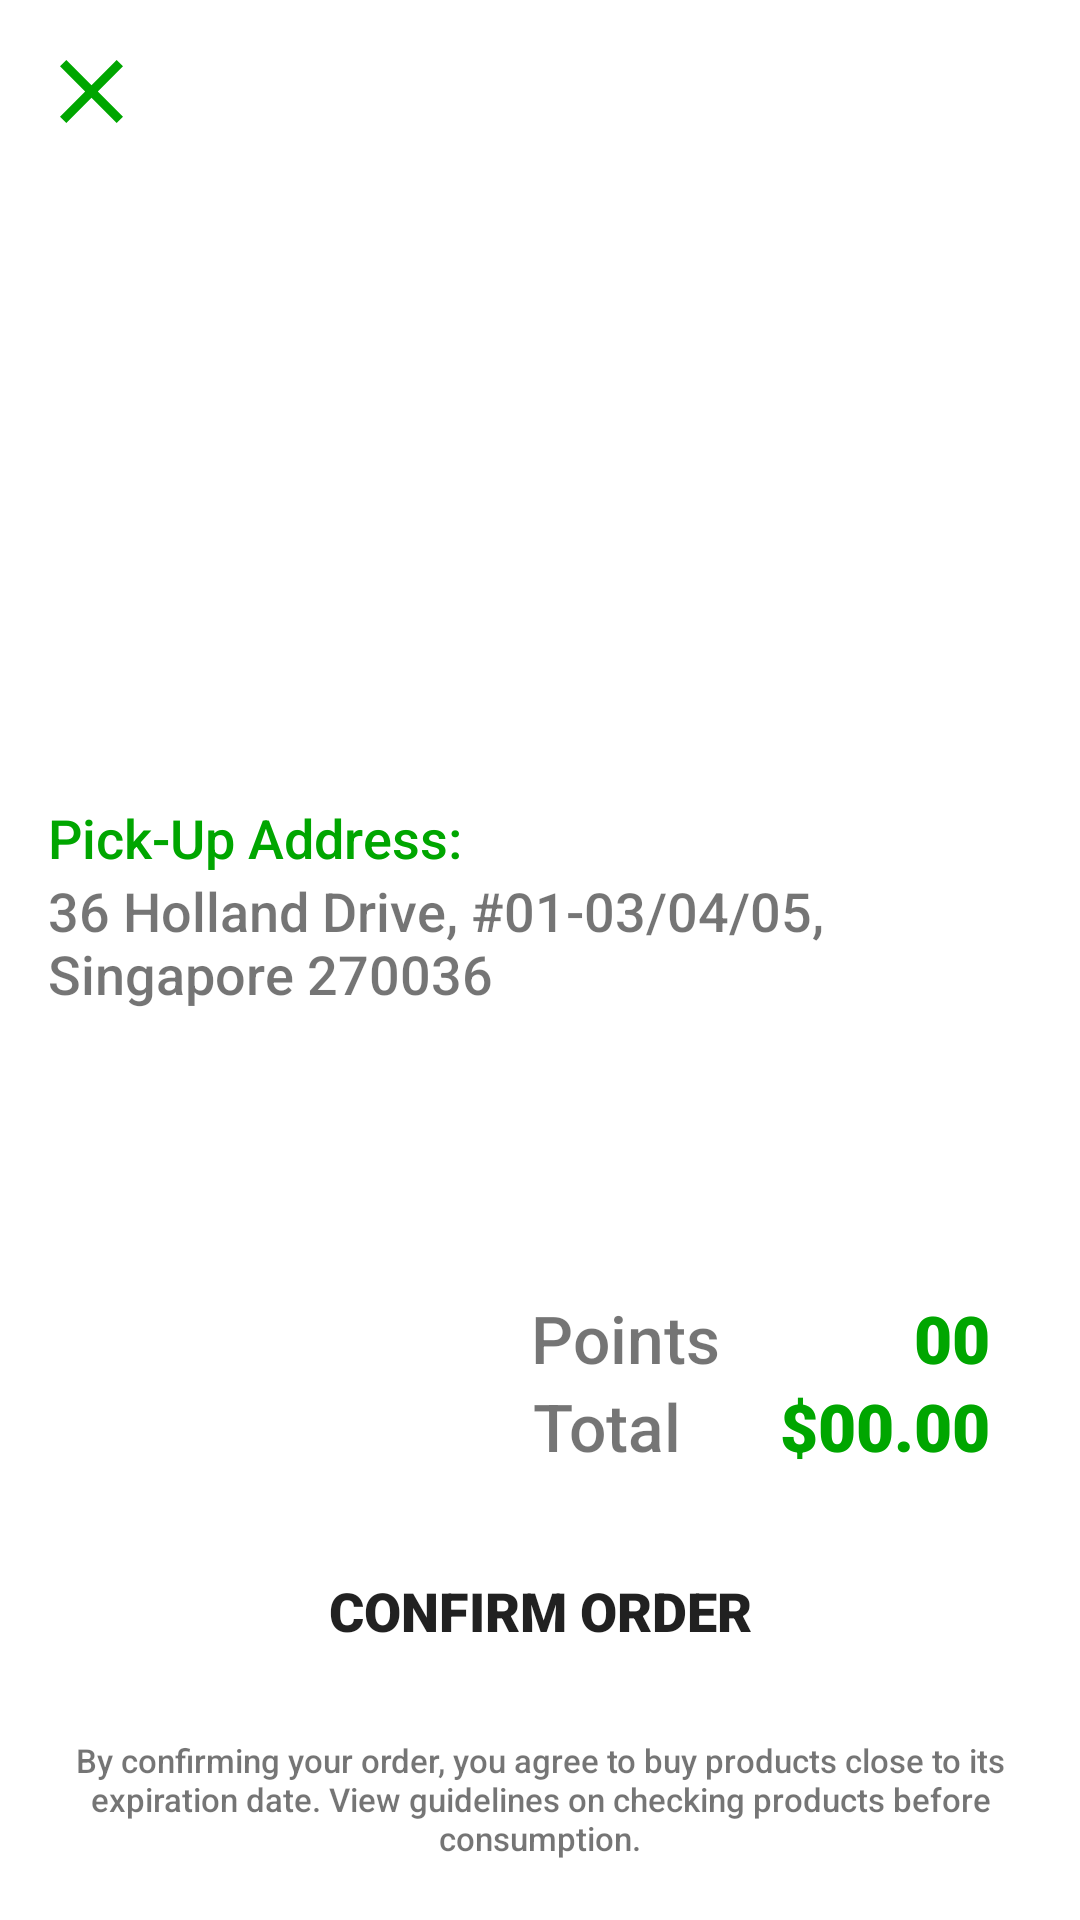

Locate icon controls on the screen. Image size 1080x1920, boxes as [x1, y1, x2, y2].
close: [60, 60, 123, 123]
